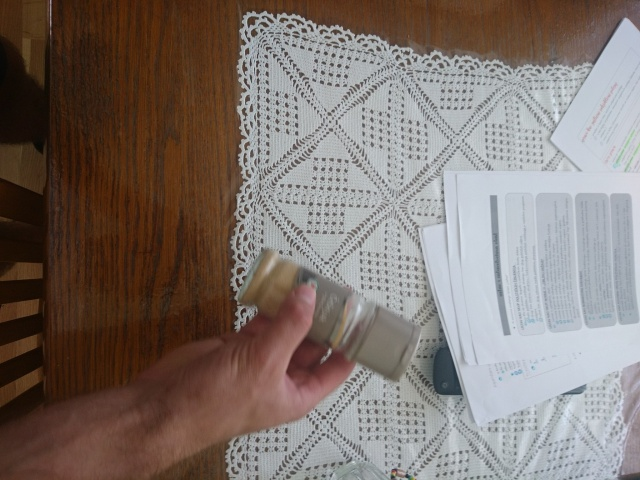Kotanyi Garlic Granules 70g: (233, 245, 426, 386)
